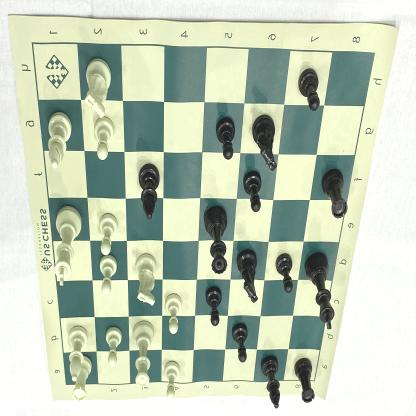black-bishop: (137, 161, 162, 223), (260, 354, 282, 412)
black-king: (303, 250, 335, 333)
black-knight: (251, 112, 280, 175), (236, 246, 260, 306)
black-pawn: (296, 66, 320, 114), (241, 168, 263, 215), (230, 320, 250, 367), (204, 285, 225, 328), (275, 250, 295, 295), (217, 116, 236, 162)
black-queen: (203, 203, 230, 276)
black-rook: (319, 168, 348, 224), (294, 354, 316, 407)
white-bishop: (44, 109, 74, 172), (68, 324, 90, 384)
white-king: (50, 204, 86, 290)
white-knight: (84, 56, 113, 121), (133, 249, 160, 309)
white-pawn: (96, 209, 119, 258), (93, 116, 115, 163), (161, 358, 182, 403), (163, 291, 183, 338), (103, 325, 124, 369), (97, 254, 118, 297)
white-queen: (131, 319, 157, 391)
white-rook: (71, 354, 92, 406)
